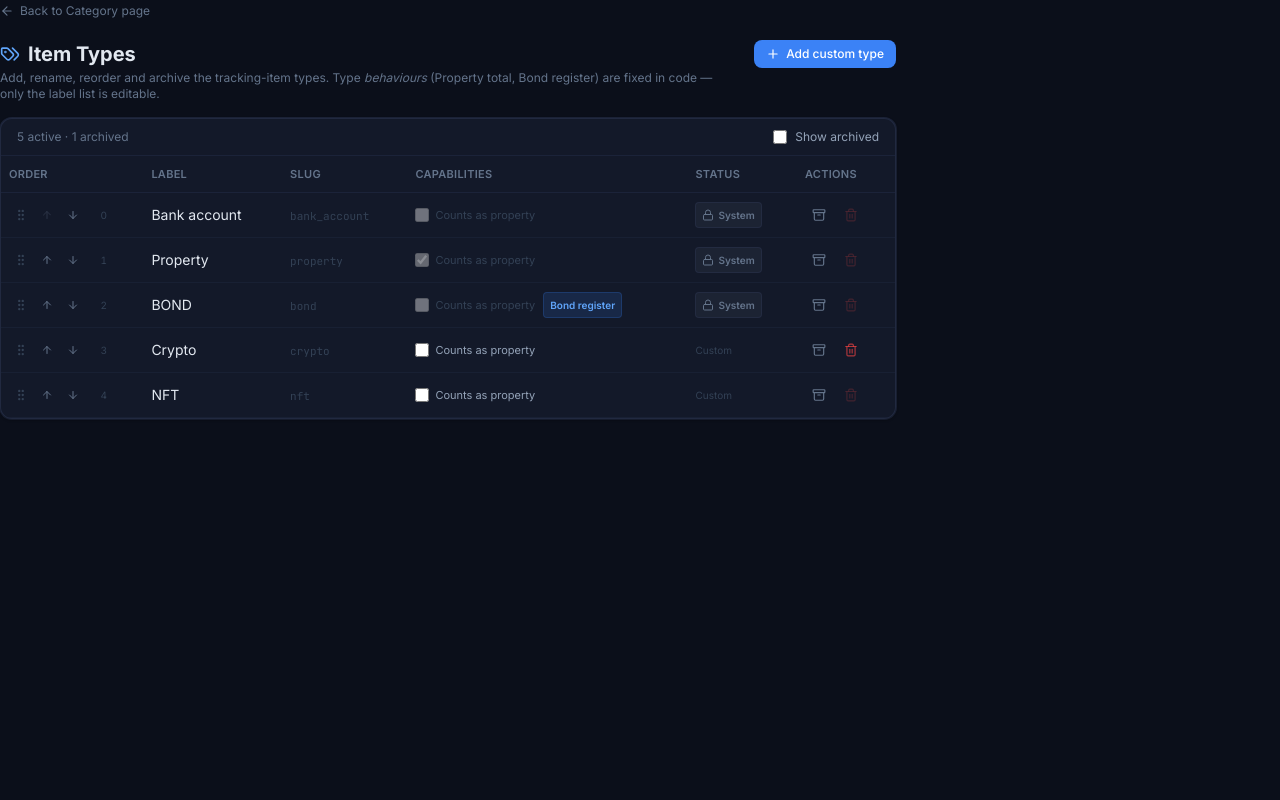
Test: ItemTypesSettingsPage — archive & delete › surfaces the backend 409 when archiving the last active type
Expected: the button with aria-label "Edit label for Bank account" is shown, left=151, top=205, right=242, bottom=225
Click the button named "Archive Bank account". click: (819, 215)
box: left=805, top=201, right=833, bottom=229
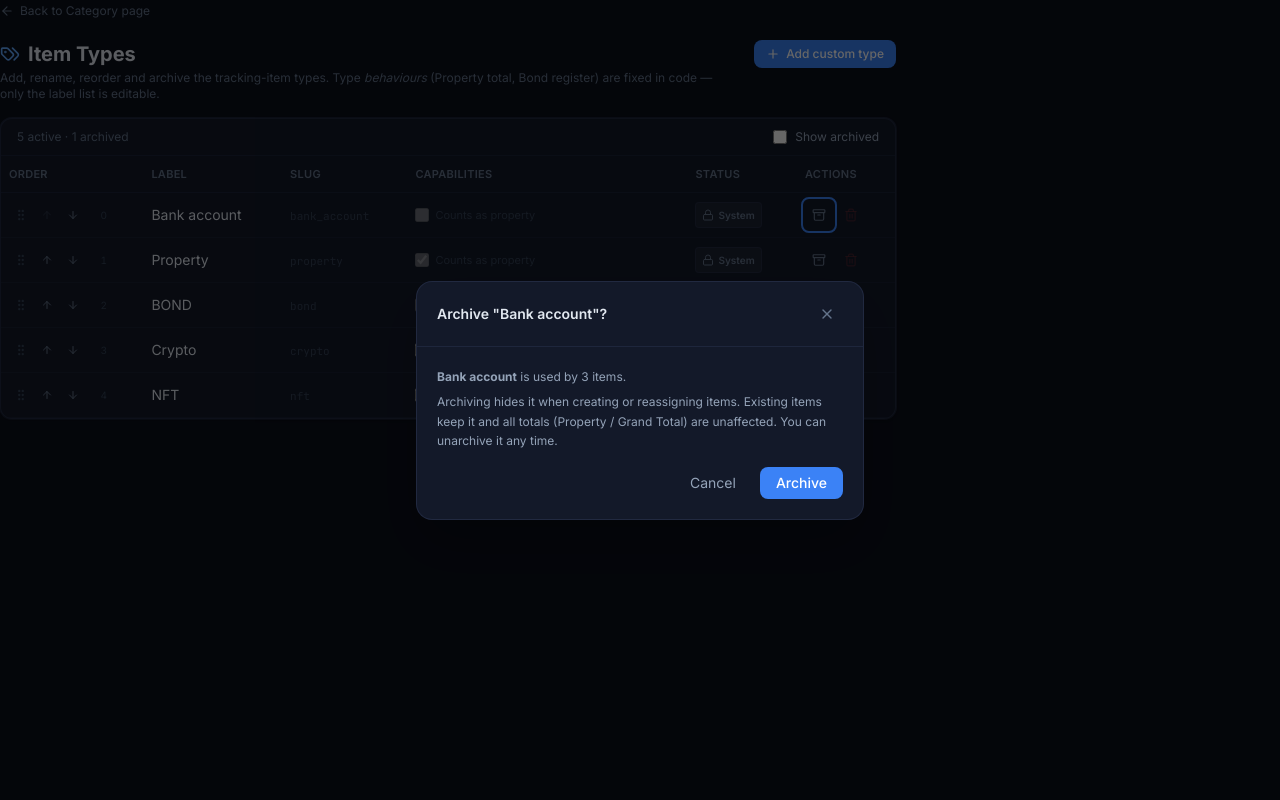
Click the button "Archive". click: (801, 482)
box: left=760, top=466, right=843, bottom=498
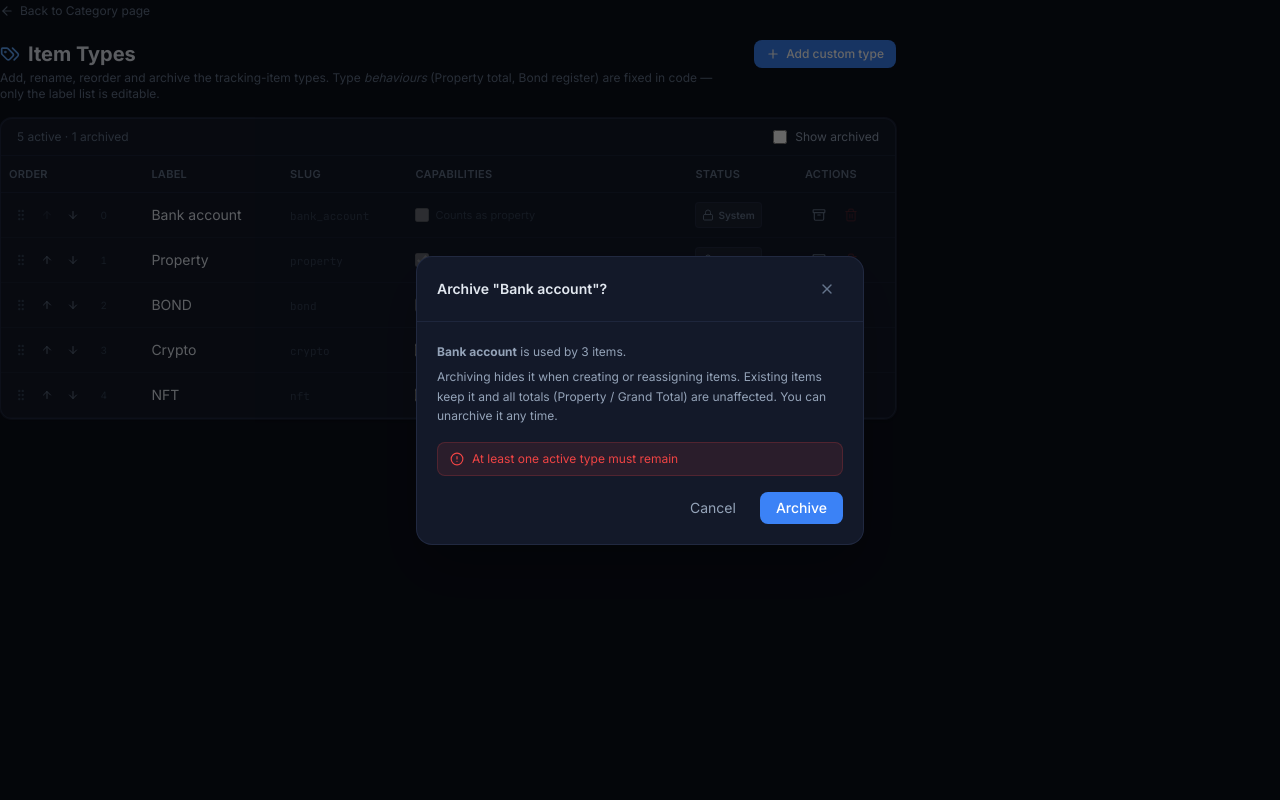
Expected: the text "At least one active type must remain" is shown, left=437, top=442, right=843, bottom=476
